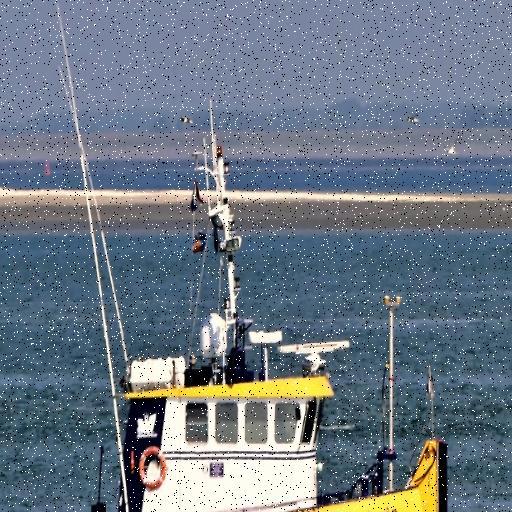tugboat: (1, 197, 452, 512)
